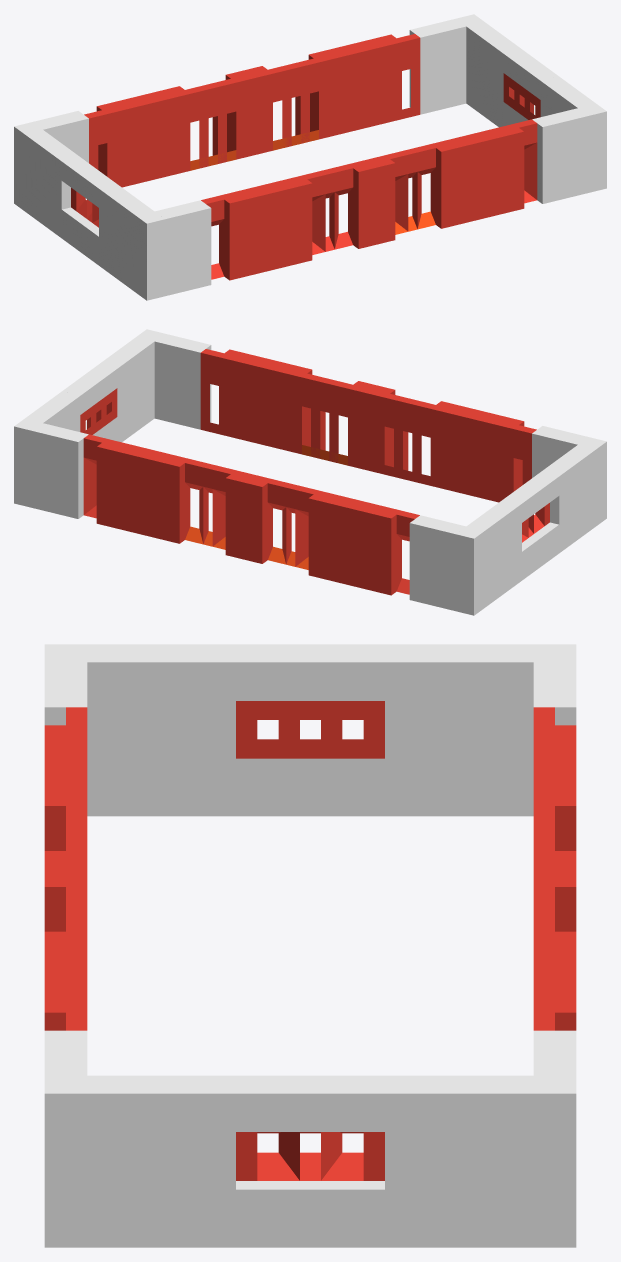
The model's file is group977772805_lev3.glb.
3 renders of one model, top to bottom at view 1: azimuth 30°, elevation 25°; view 2: azimuth 150°, elevation 25°; view 3: azimuth 270°, elevation 25°, orthographic. The views are drawn at different scales.
Visible parts, largest first — view 1: group977772805_lev3; view 2: group977772805_lev3; view 3: group977772805_lev3.
Part boxes in pixels (x1,y1,x2,y2): group977772805_lev3: [14, 14, 606, 300]; group977772805_lev3: [14, 329, 606, 615]; group977772805_lev3: [44, 644, 576, 1247].
Bounding box in the file's own units: 9.38 × 1.5 × 4.69.
